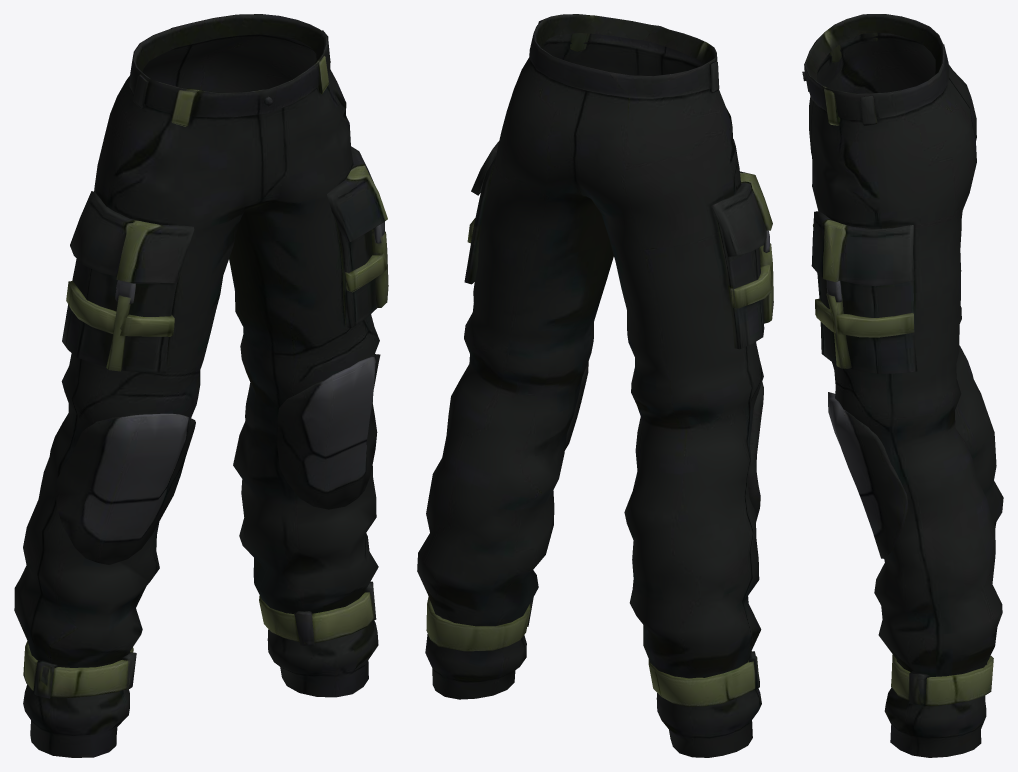
The model's file is reinforced-legs.glb.
3 views of the same model, side by side, from view 1: azimuth 30°, elevation 25°; view 2: azimuth 150°, elevation 25°; view 3: azimuth 270°, elevation 25° (orthographic). The views are drawn at different scales.
Parts seen in each view (by area): view 1: reinforced-legs; view 2: reinforced-legs; view 3: reinforced-legs.
Part boxes in pixels (x1,y1,x2,y2): reinforced-legs: (14, 14, 388, 757); reinforced-legs: (417, 14, 773, 757); reinforced-legs: (802, 14, 1003, 757).
Size of the model in its own units: 0.4733 by 0.9 by 0.2606.
1 material, 1 textured.
